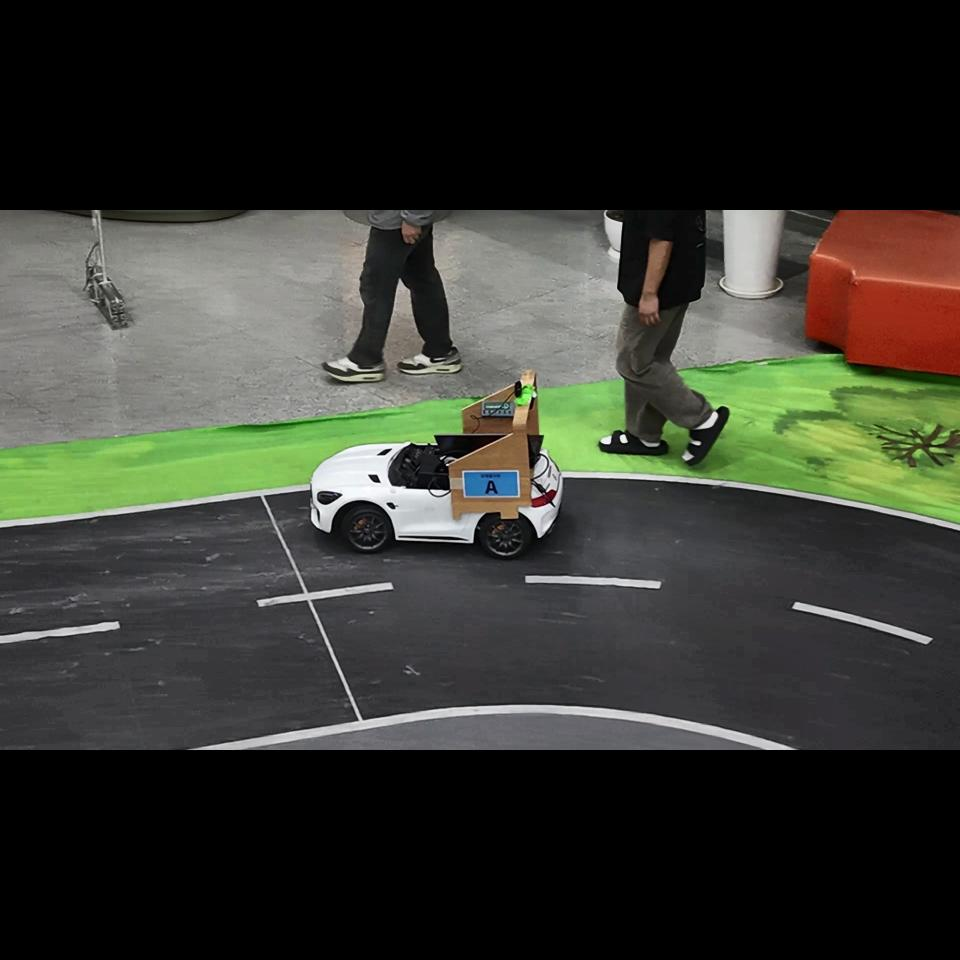broken_line: (792, 601, 934, 644), (256, 582, 394, 607), (0, 622, 120, 644), (525, 575, 661, 589)
